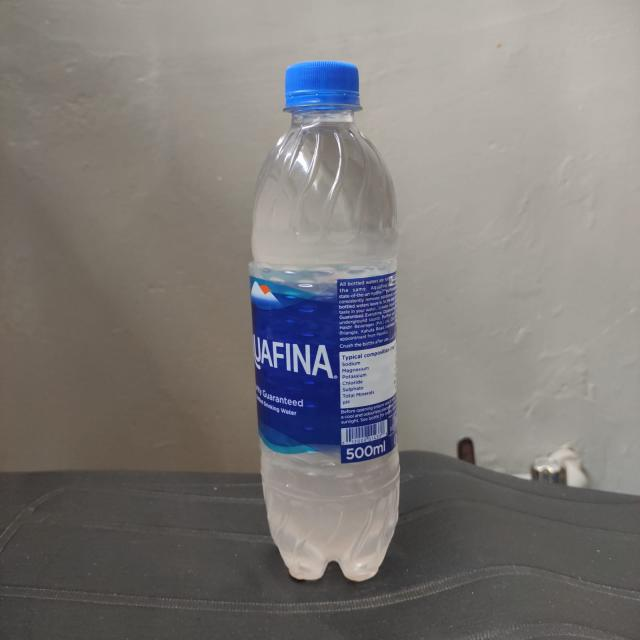bottle: (239, 58, 408, 585)
cap: (273, 61, 368, 128)
label: (242, 278, 395, 464)
